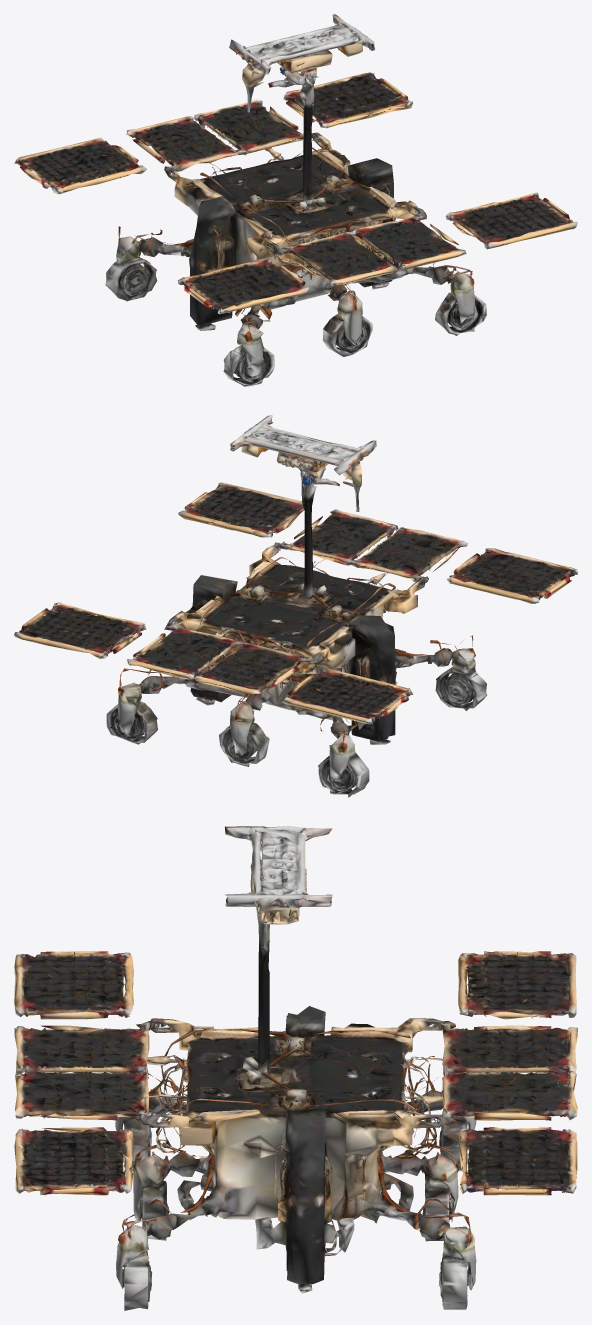
Rendered from exomars_rover-low.glb.
3 renders of one model, top to bottom at view 1: azimuth 30°, elevation 25°; view 2: azimuth 150°, elevation 25°; view 3: azimuth 270°, elevation 25°, orthographic. The views are drawn at different scales.
Bounding box in the file's own units: 1.9 × 1.38 × 1.89.
Materials: 1 (1 with a texture image).
